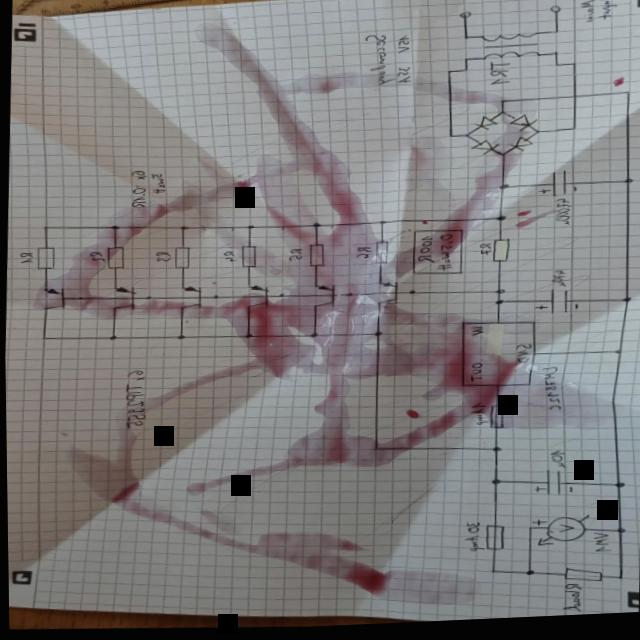capacitor: (530, 291, 577, 320), (528, 472, 572, 502), (534, 173, 576, 202)
crossover: (568, 98, 576, 103)
diode: (467, 142, 499, 160), (507, 117, 536, 136), (505, 140, 532, 157), (471, 118, 496, 135)
junction: (610, 486, 622, 493), (486, 482, 498, 489), (612, 532, 623, 539), (492, 219, 504, 225), (490, 303, 502, 309), (521, 573, 531, 580), (488, 449, 498, 456), (619, 301, 629, 308), (496, 187, 506, 194), (108, 224, 118, 231), (460, 136, 470, 143), (530, 133, 540, 140), (496, 112, 506, 119), (620, 183, 630, 189), (308, 224, 318, 230), (492, 292, 502, 298), (173, 335, 183, 341), (104, 335, 115, 340), (240, 335, 250, 340), (176, 226, 186, 231), (306, 334, 316, 339), (495, 155, 505, 160), (442, 72, 450, 78), (567, 130, 575, 136), (209, 295, 217, 301), (244, 226, 252, 231), (371, 334, 379, 339), (550, 33, 558, 38), (459, 61, 467, 66), (460, 38, 468, 43), (376, 223, 384, 228), (484, 573, 492, 578), (549, 56, 557, 61), (613, 580, 621, 585), (445, 137, 453, 142), (568, 66, 576, 71), (611, 354, 619, 359), (343, 295, 351, 300), (405, 293, 413, 298), (276, 295, 282, 301), (368, 449, 376, 453), (551, 67, 559, 71), (620, 96, 628, 100), (523, 530, 531, 534), (141, 297, 149, 301), (40, 224, 46, 229), (74, 296, 80, 301), (497, 103, 503, 107), (37, 336, 43, 340), (460, 72, 466, 76)
resistor: (560, 571, 600, 588), (102, 245, 125, 271), (487, 241, 508, 267), (32, 245, 53, 270), (169, 246, 190, 271), (235, 246, 256, 270), (303, 245, 323, 270), (369, 243, 388, 269)
terminal: (545, 9, 559, 18), (456, 15, 470, 23)
text: (359, 36, 395, 96), (118, 383, 145, 431), (536, 369, 562, 415), (431, 236, 452, 276), (557, 586, 580, 617), (459, 524, 479, 556), (485, 65, 510, 90), (413, 238, 433, 268), (550, 200, 569, 230), (464, 406, 486, 430), (594, 2, 616, 26), (576, 3, 596, 28), (127, 186, 146, 211), (587, 536, 608, 558), (147, 173, 165, 196), (544, 453, 564, 473), (509, 346, 527, 368), (546, 273, 565, 293), (465, 364, 481, 386), (394, 68, 411, 87), (122, 369, 145, 383), (126, 168, 146, 183), (285, 249, 302, 264), (352, 248, 370, 262), (85, 250, 103, 264), (151, 250, 168, 264), (395, 38, 408, 56), (16, 250, 32, 264), (465, 329, 481, 340), (219, 252, 233, 264), (476, 247, 490, 259)
transformer: (477, 33, 540, 67)
transistor: (108, 285, 136, 312), (38, 285, 65, 312), (308, 284, 334, 312), (242, 284, 268, 312), (175, 285, 201, 312), (371, 283, 397, 309)
